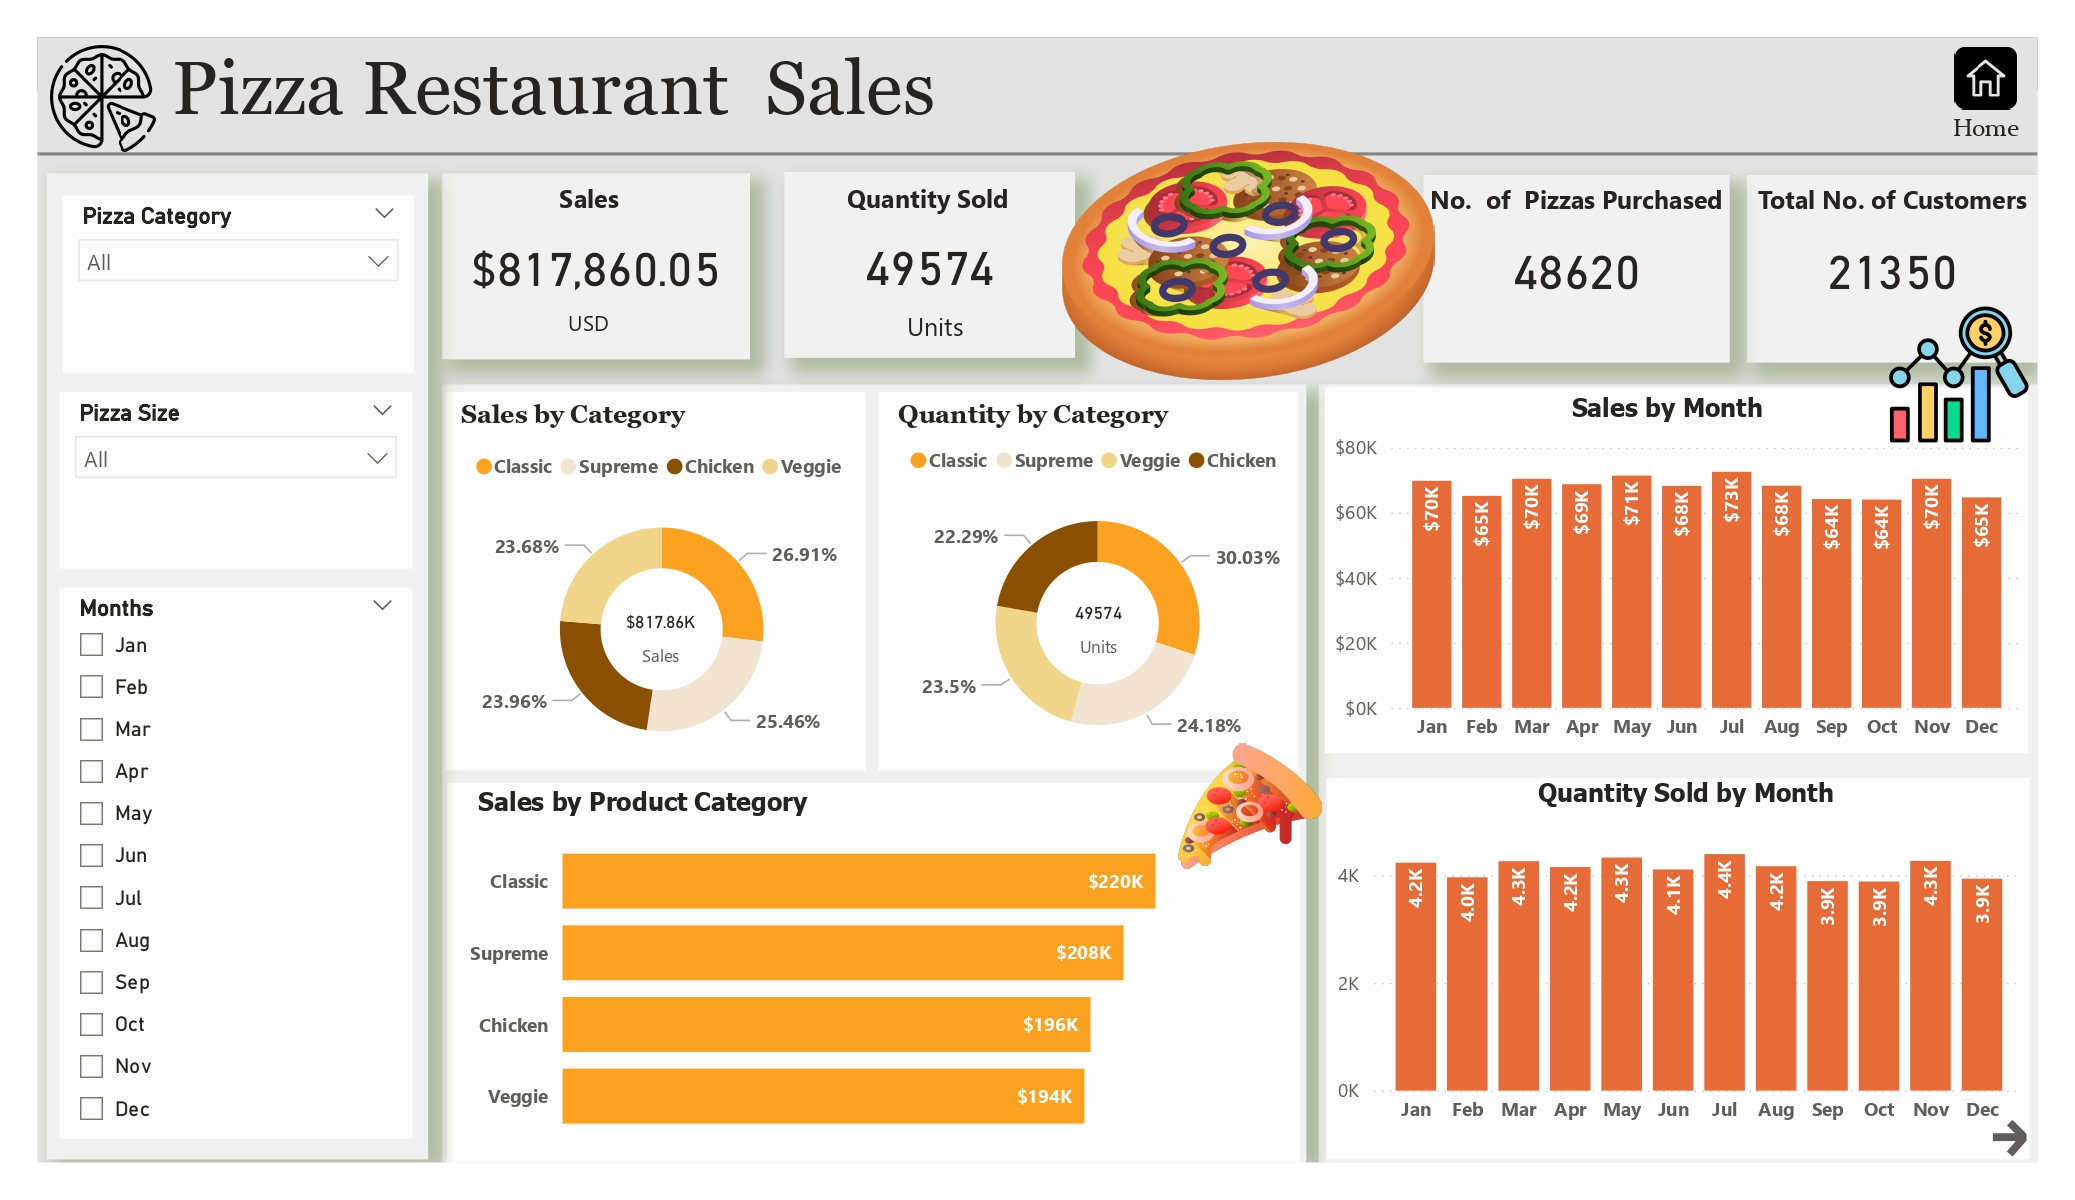

The dashboard page shown, as its layout file describes it:
{"tool":"powerbi","page":{"name":"Pizza Sales","canvas":[1280,720],"ordinal":1},"visuals":[{"type":"shape","box":[259.4,222,552.5,498.3],"z":0},{"type":"shape","box":[261.8,477.5,546.5,242.5],"z":1000},{"type":"shape","box":[538.1,226.8,269,242.5],"z":2000},{"type":"shape","box":[260.6,226.8,269,242.5],"z":3000},{"type":"shape","box":[6,86.9,243.7,631],"z":4000},{"type":"textbox","box":[80.8,0,598.4,74.8],"z":5000},{"type":"shape","box":[0,61.5,1280,25.3],"z":6000},{"type":"image","box":[1216.1,1.2,61.5,49.5],"z":7000},{"type":"textbox","box":[1213,43,67.6,30.2],"z":8000},{"type":"slicer","fields":{"Values":["pizza_types.category","pizzas.pizza_type_id"]},"box":[15.7,101.3,225.6,113.4],"z":9000},{"type":"slicer","fields":{"Values":["pizzas.size"]},"box":[14.5,226.8,225.6,113.4],"z":10000},{"type":"slicer","fields":{"Values":["Dates.Month"]},"box":[14.5,352.3,225.6,352.3],"z":11000},{"type":"card","title":"Sales","fields":{"Values":["Formula.Sales"]},"box":[259.4,86.9,196.6,119.4],"z":12000},{"type":"textbox","box":[305.2,86.9,95.3,36.2],"z":13000},{"type":"card","title":"Sales","fields":{"Values":["Formula.Quantity Sold"]},"box":[477.8,85.7,185.8,119.4],"z":14000},{"type":"textbox","box":[505.5,86.9,129.1,36.2],"z":15000},{"type":"textbox","box":[510.3,168.9,129.1,36.2],"z":16000},{"type":"textbox","box":[288.3,168.9,129.1,36.2],"z":17000},{"type":"card","title":"Sales","fields":{"Values":["CountNonNull(order_details.order_details_id)"]},"box":[886.7,88.1,196.6,119.4],"z":18000},{"type":"card","title":"Sales","fields":{"Values":["CountNonNull(orders.order_id)"]},"box":[1094.2,88.1,185.8,119.4],"z":19000},{"type":"textbox","box":[882,88.1,206,37],"z":20000},{"type":"image","box":[651.5,12.1,247.3,261.8],"z":21000},{"type":"textbox","box":[1094.2,88.1,185.8,37.4],"z":22000},{"type":"image","box":[0,0,84.5,78.4],"z":23000},{"type":"donutChart","fields":{"Category":["pizza_types.category"],"Y":["Formula.Sales"]},"box":[273.9,254.6,250.9,219.6],"z":24000},{"type":"donutChart","fields":{"Category":["pizza_types.category"],"Y":["Formula.Quantity Sold"]},"box":[552.5,250.9,250.9,219.6],"z":25000},{"type":"textbox","box":[259.4,227.2,166.3,36],"z":26000},{"type":"textbox","box":[542.9,226.8,188.2,36.2],"z":27000},{"type":"card","fields":{"Values":["Formula.Sales"]},"box":[353.5,360.7,91.7,44.6],"z":28000},{"type":"card","fields":{"Values":["Formula.Quantity Sold"]},"box":[627.3,352.3,103.8,49.5],"z":29000},{"type":"clusteredBarChart","fields":{"Category":["pizza_types.category","pizzas.pizza_type_id","pizzas.pizza_id"],"Y":["Formula.Sales"]},"box":[270.2,491,500.7,229.2],"z":30000},{"type":"textbox","box":[270.2,474.1,235.3,36.2],"z":31000},{"type":"shape","box":[820.4,222,459.7,498.3],"z":32000},{"type":"shape","box":[824,224.4,450,234],"z":33000},{"type":"textbox","box":[967.6,222,150.8,32.6],"z":34000},{"type":"shape","box":[825.2,474.1,450,243.7],"z":35000},{"type":"textbox","box":[941,468,228,32.6],"z":36000},{"type":"clusteredColumnChart","fields":{"Category":["Dates.Month"],"Y":["Formula.Sales"]},"box":[825.5,240.8,449.3,218.5],"z":37000},{"type":"clusteredColumnChart","fields":{"Category":["Dates.Month"],"Y":["Formula.Quantity Sold"]},"box":[826.7,485.3,449.3,218.5],"z":38000},{"type":"image","box":[724.9,443.1,101.8,96.8],"z":39000},{"type":"image","box":[1178,161.4,101.8,106.8],"z":40000},{"type":"actionButton","box":[1246.3,688.9,33.5,31],"z":41000}]}

Visuals, with their boxes in screenshot pixels (x1, y1, x2, y2):
shape: (443,384,1306,1162)
shape: (447,784,1300,1162)
shape: (878,392,1299,771)
shape: (445,392,865,771)
shape: (47,173,428,1159)
textbox: (164,38,1099,154)
shape: (38,134,2038,173)
image: (1938,39,2034,117)
textbox: (1933,105,2038,152)
slicer - pizza_types.category x pizzas.pizza_type_id: (62,196,415,373)
slicer - pizzas.size: (60,392,413,569)
slicer - Dates.Month: (60,588,413,1138)
"Sales" card: (443,173,750,360)
textbox: (514,173,663,230)
"Sales" card: (784,171,1074,358)
textbox: (827,173,1029,230)
textbox: (835,301,1037,358)
textbox: (488,301,690,358)
"Sales" card: (1423,175,1730,362)
"Sales" card: (1747,175,2038,362)
textbox: (1416,175,1738,233)
image: (1055,56,1442,465)
textbox: (1747,175,2038,234)
image: (38,38,170,160)
donutChart - pizza_types.category x Formula.Sales: (465,435,857,778)
donutChart - pizza_types.category x Formula.Quantity Sold: (901,430,1293,773)
textbox: (443,392,703,449)
textbox: (886,392,1180,448)
card - Formula.Sales: (590,601,733,671)
card - Formula.Quantity Sold: (1018,588,1180,665)
clusteredBarChart - pizza_types.category x pizzas.pizza_type_id: (460,805,1242,1162)
textbox: (460,778,827,835)
shape: (1319,384,2038,1162)
shape: (1325,388,2028,754)
textbox: (1549,384,1785,435)
shape: (1327,778,2030,1159)
textbox: (1508,769,1864,820)
clusteredColumnChart - Dates.Month x Formula.Sales: (1327,414,2029,755)
clusteredColumnChart - Dates.Month x Formula.Quantity Sold: (1329,796,2031,1137)
image: (1170,730,1329,881)
image: (1878,290,2037,457)
actionButton: (1985,1114,2037,1162)
